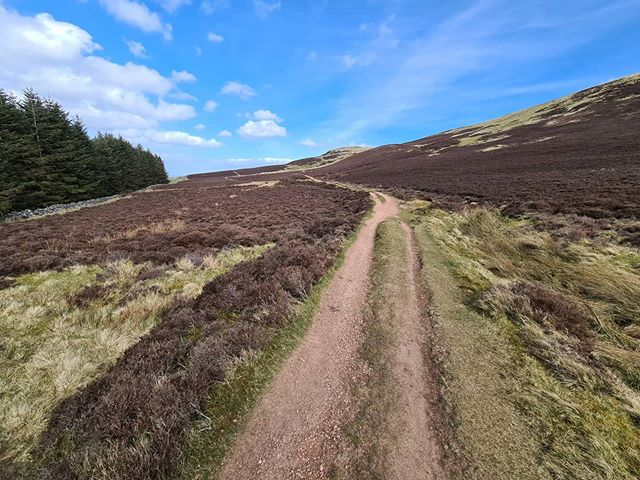grass: (1, 169, 293, 472), (432, 115, 640, 385)
mountain: (227, 72, 640, 178)
road: (233, 173, 486, 480)
sky: (4, 4, 640, 163)
vegetation: (1, 93, 170, 212)
